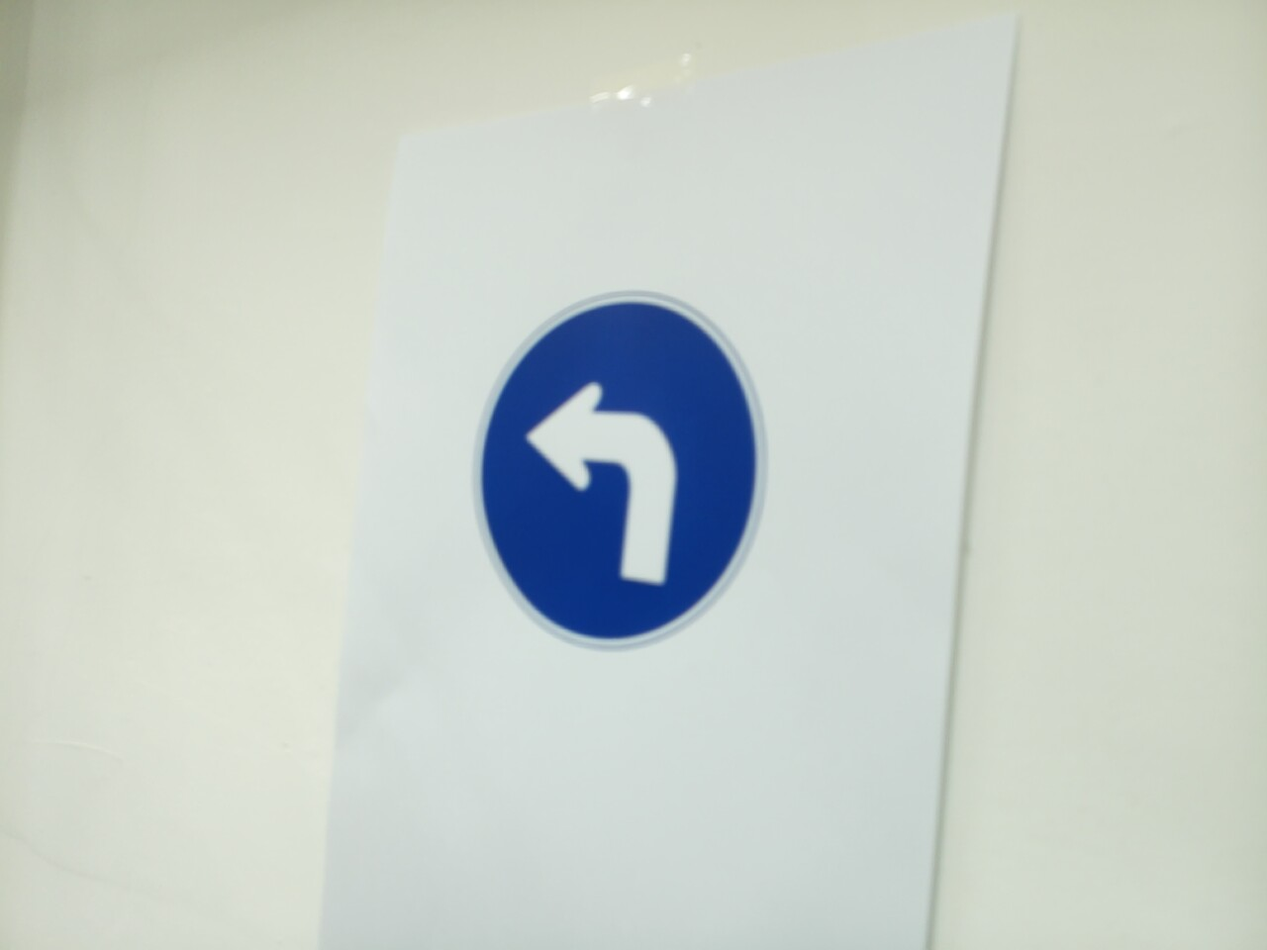left_turn: (472, 292, 765, 649)
